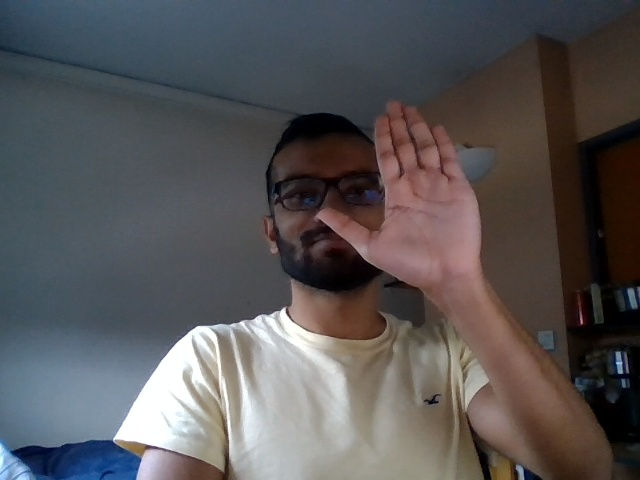Hello: (309, 87, 504, 280)
